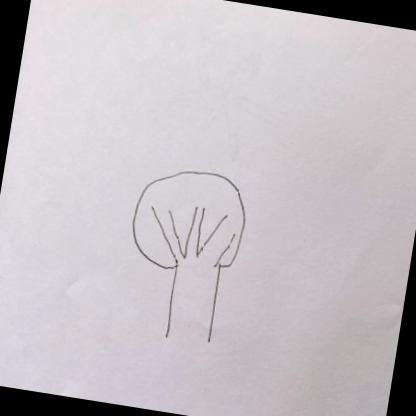branch_line: (144, 196, 240, 264)
crown_mushroom: (125, 161, 255, 281)
trunk_straight: (158, 268, 226, 336)
